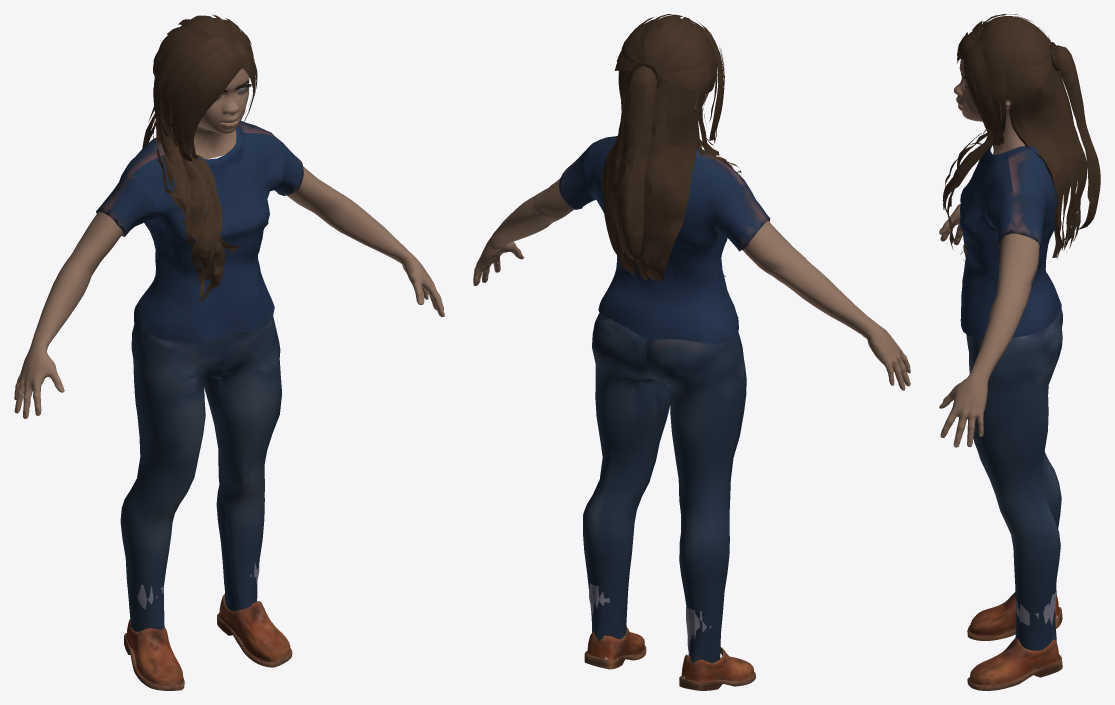
The model's file is 2628-People-cast-cooked-mh-00.glb.
3 renders of one model, left to right at view 1: azimuth 30°, elevation 25°; view 2: azimuth 150°, elevation 25°; view 3: azimuth 270°, elevation 25°, orthographic. The views are drawn at different scales.
Visible parts, largest first — view 1: People: cast (cooked)/mh_00; view 2: People: cast (cooked)/mh_00; view 3: People: cast (cooked)/mh_00.
Part boxes in pixels (x1,y1,x2,y2): People: cast (cooked)/mh_00: (14,15,444,690); People: cast (cooked)/mh_00: (473,14,910,690); People: cast (cooked)/mh_00: (939,14,1100,690).
Bounding box in the file's own units: 0.8319 × 1.21 × 0.2764.
